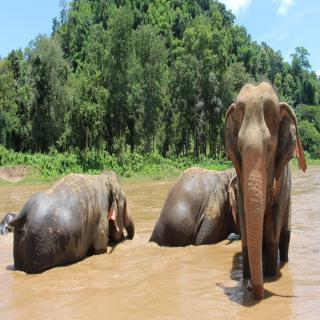Elephant: (225, 79, 309, 303), (7, 168, 139, 277), (148, 155, 244, 253)
